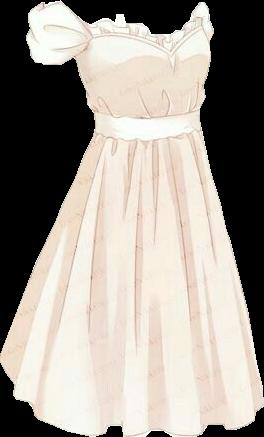Bodice: (74, 15, 210, 141)
Hemline: (0, 354, 263, 436)
Neckline: (89, 25, 204, 55), (89, 15, 195, 39), (91, 106, 200, 119)
Skirt: (0, 128, 263, 436)
Sleeve: (26, 0, 89, 64)
Sleeveline: (70, 22, 94, 63)
Waistline: (92, 124, 202, 144)
